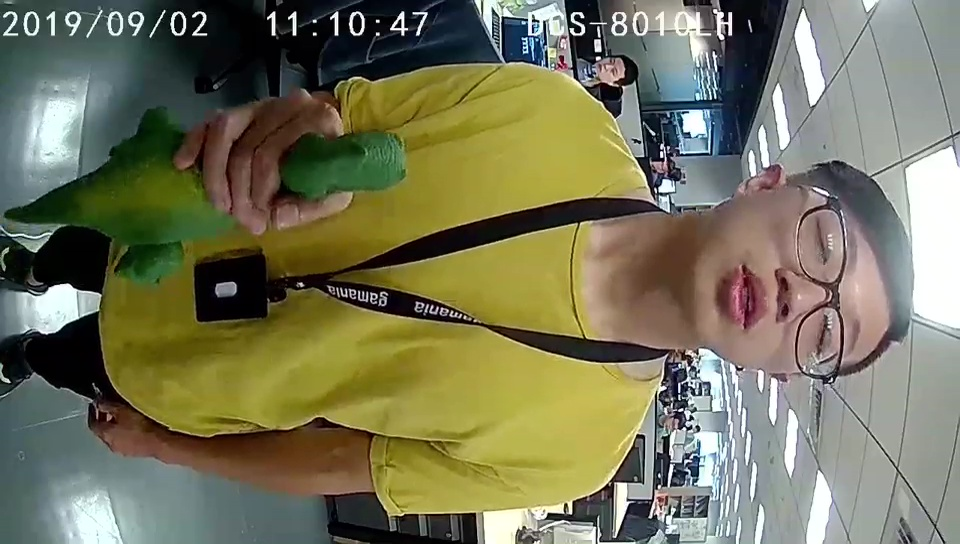rex: (100, 129, 404, 285)
